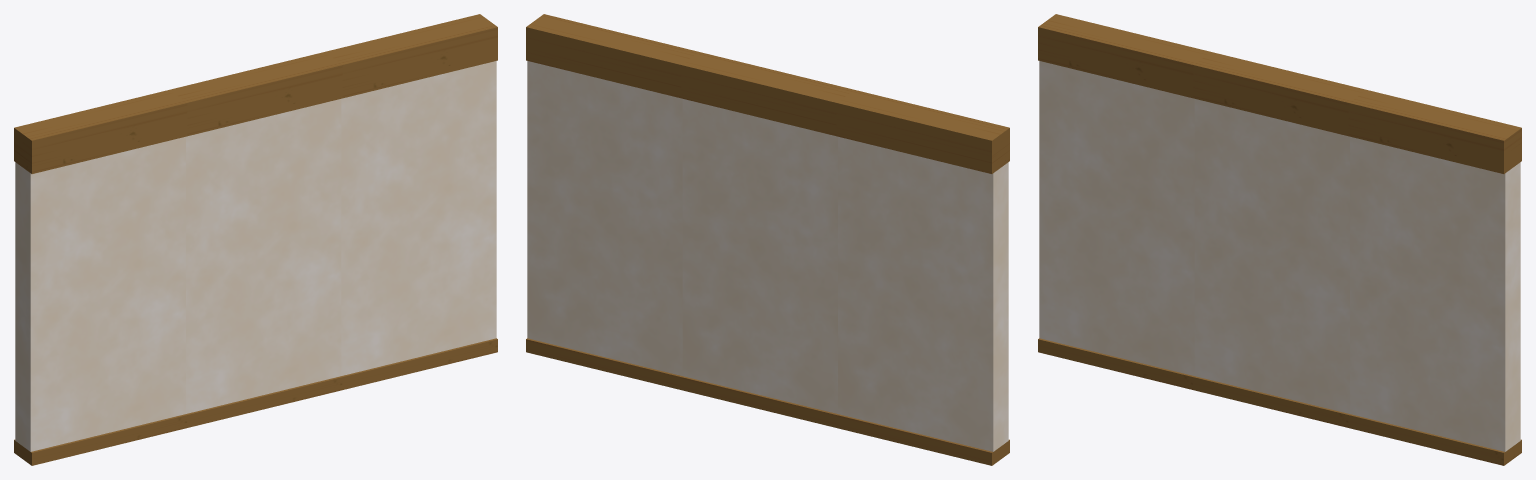
The model's file is wall_3.fbx.
3 renders of one model, left to right at view 1: azimuth 30°, elevation 25°; view 2: azimuth 150°, elevation 25°; view 3: azimuth 330°, elevation 25°, orthographic.
Parts seen in each view (by area): view 1: wall03; view 2: wall03; view 3: wall03.
Boxes of the visible parts, x1=… form: wall03: x1=14, y1=14, x2=497, y2=465; wall03: x1=526, y1=14, x2=1009, y2=465; wall03: x1=1038, y1=14, x2=1521, y2=465.
Bounding box in the file's own units: 300 × 200 × 20.
